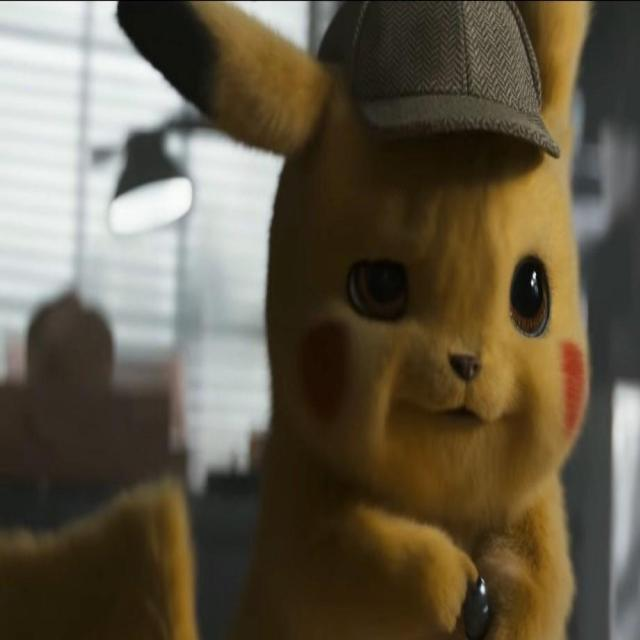pikachu: (114, 0, 598, 639)
